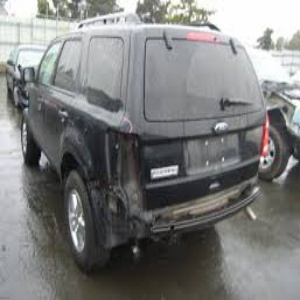bumper: (108, 196, 182, 247)
